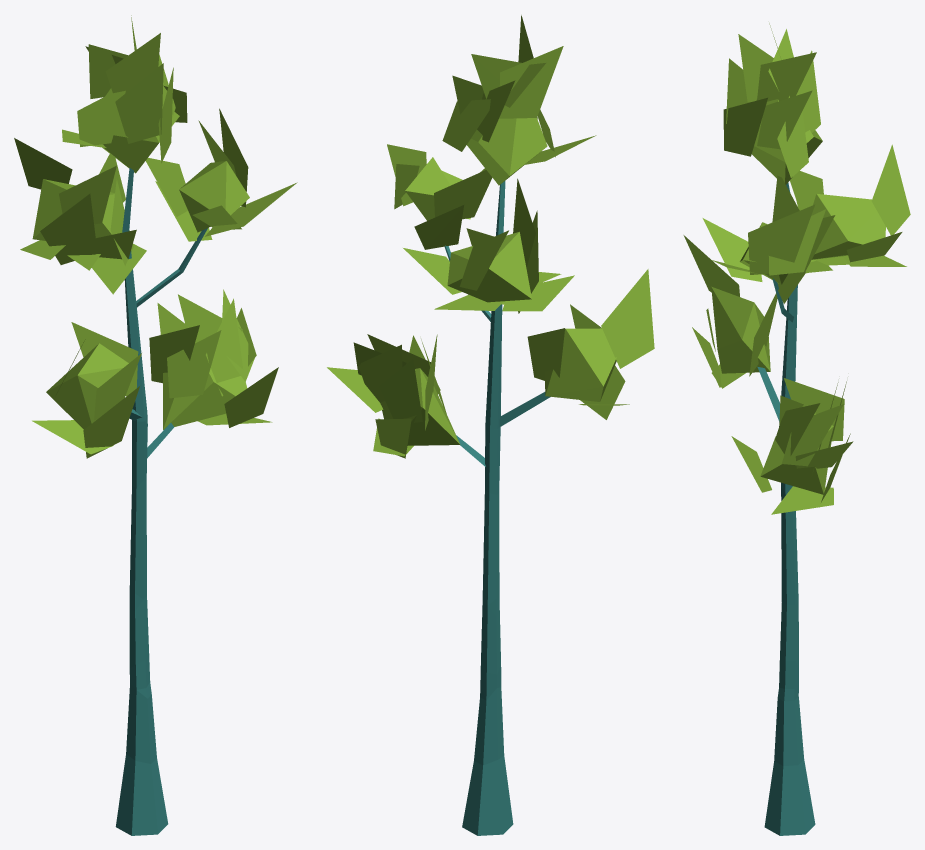
File: SM_Tree_Birch_Sapling_A.fbx
The picture shows the model from 3 angles, left to right: view 1: azimuth 30°, elevation 25°; view 2: azimuth 150°, elevation 25°; view 3: azimuth 270°, elevation 25°; orthographic projection. The views are drawn at different scales.
Parts seen in each view (by area): view 1: tree-birch-sapling-a; view 2: tree-birch-sapling-a; view 3: tree-birch-sapling-a.
Part boxes in pixels (left/top/right/bottom): tree-birch-sapling-a: left=14, top=15, right=297, bottom=835; tree-birch-sapling-a: left=327, top=15, right=654, bottom=835; tree-birch-sapling-a: left=683, top=23, right=910, bottom=835.
Size of the model in its own units: 0.6692 by 1.99 by 0.5202.
